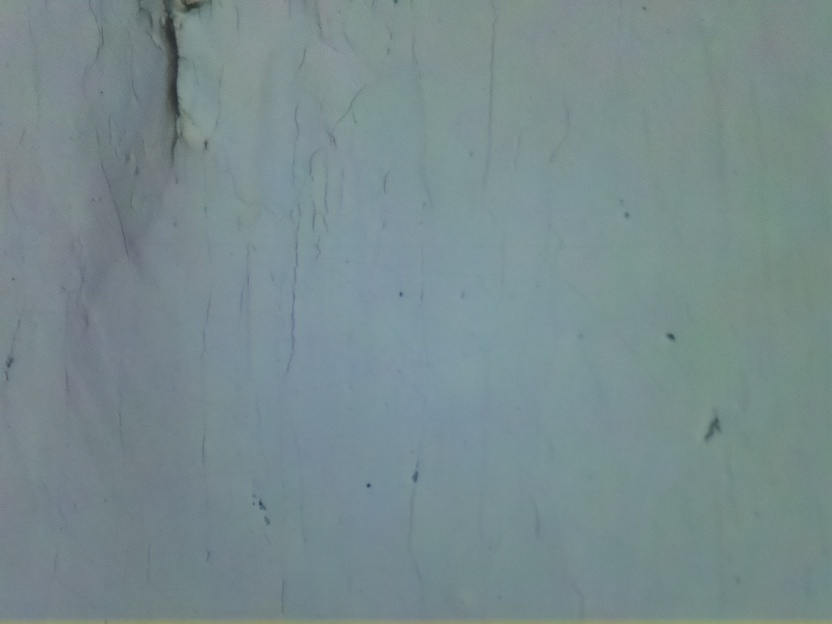crack: (154, 0, 197, 136)
